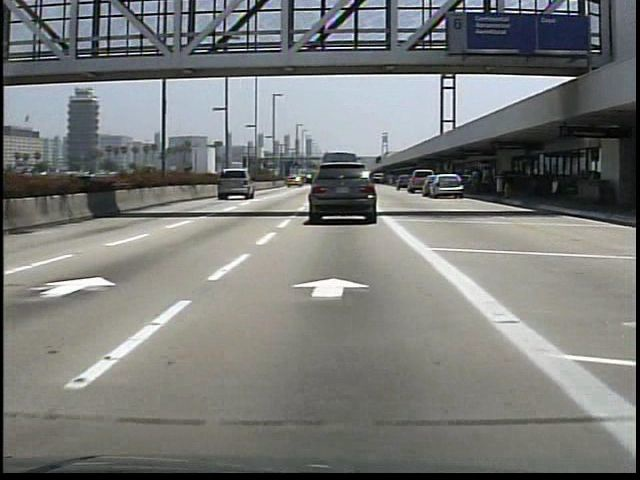person: (478, 160, 493, 197), (464, 165, 480, 198)
